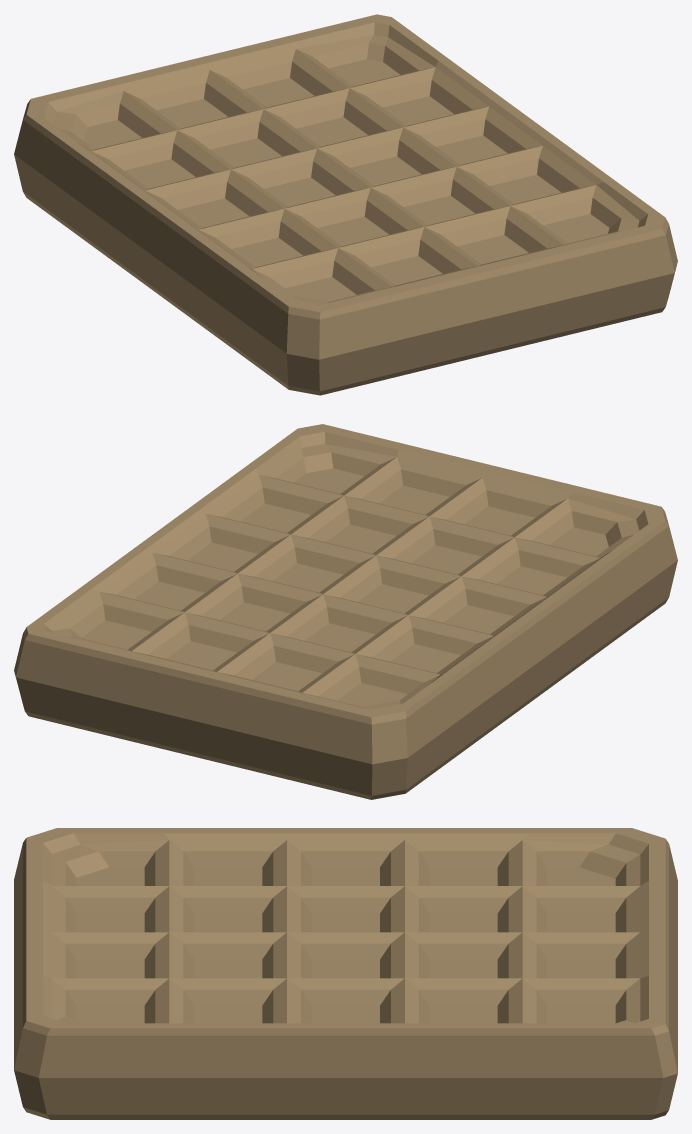
File: quaternius-ultimate-food-waffle.glb
3 views of the same model, one above another, from view 1: azimuth 30°, elevation 25°; view 2: azimuth 150°, elevation 25°; view 3: azimuth 270°, elevation 25° (orthographic). The views are drawn at different scales.
Visible parts, largest first — view 1: Waffle; view 2: Waffle; view 3: Waffle.
Boxes of the visible parts, <box> form: Waffle: <box>14,14,677,395</box>; Waffle: <box>14,424,677,799</box>; Waffle: <box>14,828,677,1119</box>.
Bounding box in the file's own units: 1.13 × 0.2322 × 1.53.
